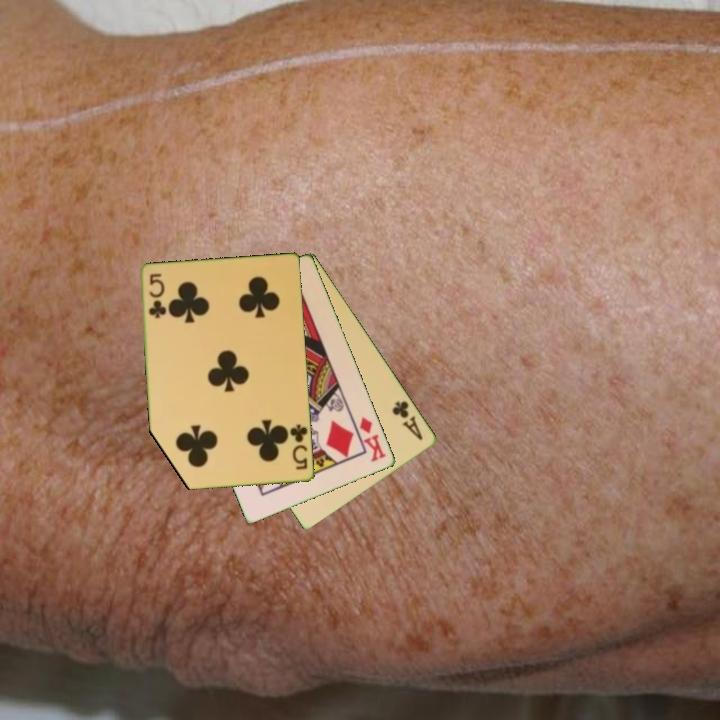5c: (287, 421, 311, 473), (146, 270, 168, 321)
Ac: (389, 397, 426, 443)
Kd: (356, 414, 389, 465)
